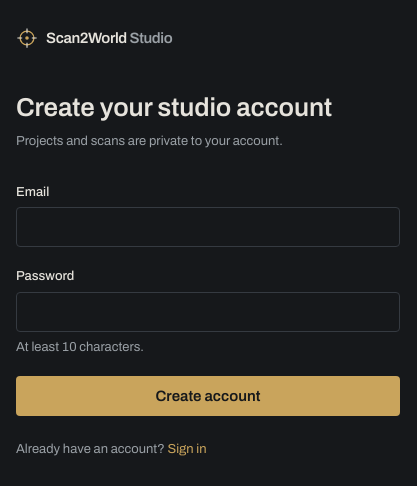
Test case: AuthPage › shows field errors and does not submit invalid input
Type "not-an-email" into the field labelled "Email". click: (208, 227)
box: [16,207,400,247]
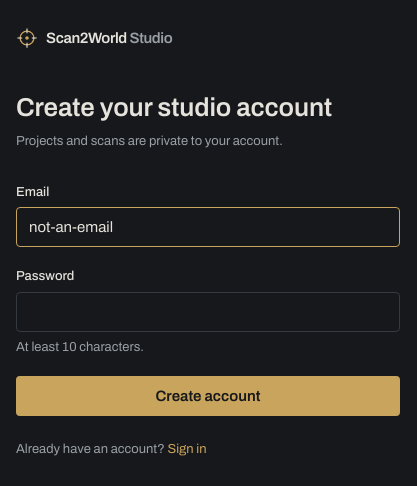
Type "short" into the password field labelled "Password". click: (208, 312)
box: [16,292,400,332]
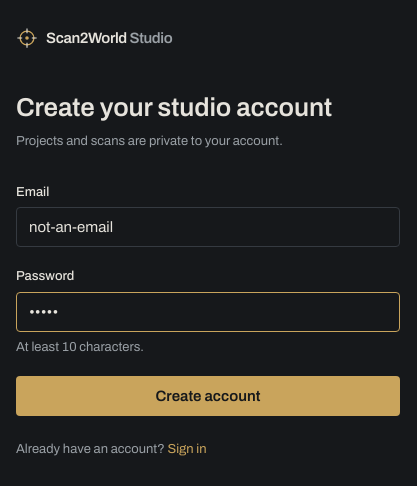
Click the button "Create account". click: (208, 396)
box: [16,376,400,416]
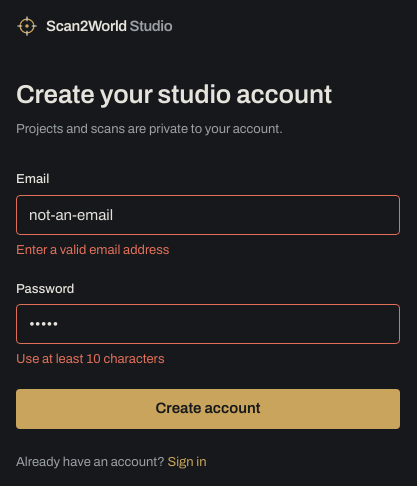
Result: the text "Enter a valid email address" is shown at [16,243,170,257]
Result: the text "Use at least 10 characters" is shown at [16,352,165,366]
